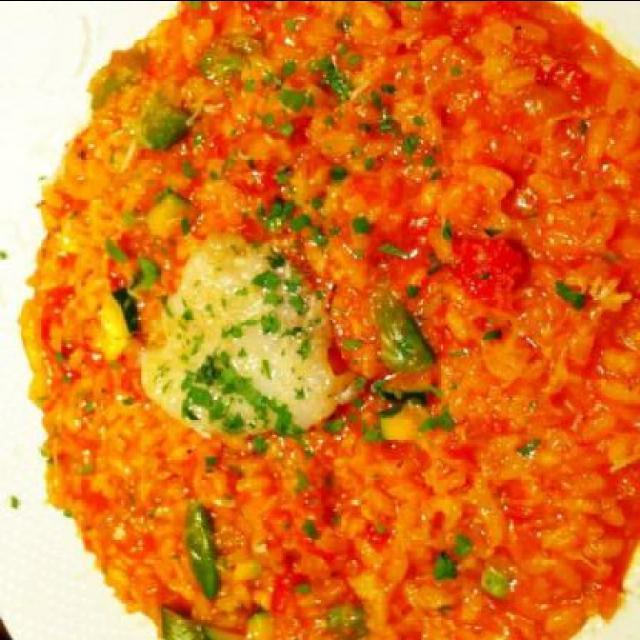Risotto: (38, 2, 630, 626)
